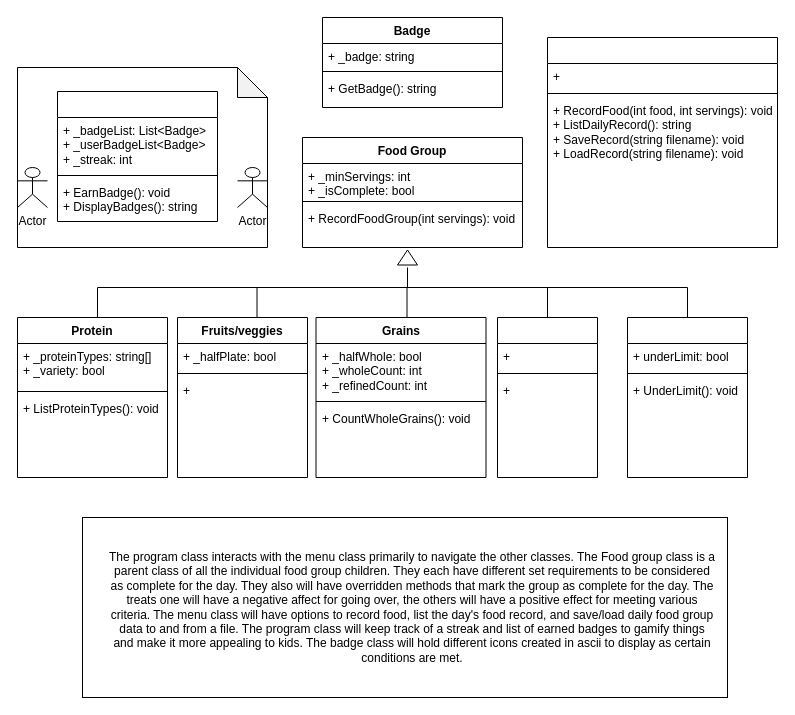
This 795x715 diagram has some shape labels left out. Here are the shapes that lost their labels. From the top down, the box of each, then its label:
(56, 90, 218, 222): Program
(546, 36, 778, 248): Menu
(496, 316, 598, 478): Dairy
(626, 316, 748, 478): Treats
